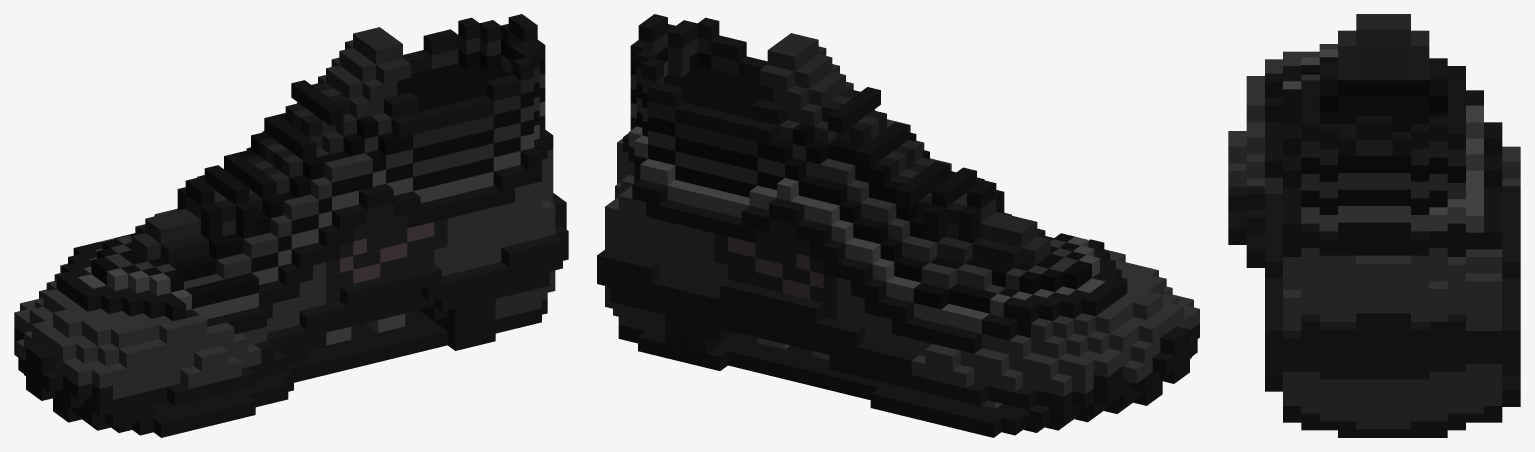
The model's file is Charcoal.fbx.
3 views of the same model, side by side, from view 1: azimuth 30°, elevation 25°; view 2: azimuth 150°, elevation 25°; view 3: azimuth 270°, elevation 25° (orthographic). The views are drawn at different scales.
Visible parts, largest first — view 1: Untitled; view 2: Untitled; view 3: Untitled.
Boxes of the visible parts, box(x1,y1,x2,y2) form: Untitled: box(14, 14, 568, 437); Untitled: box(597, 14, 1199, 437); Untitled: box(1228, 14, 1520, 437).
Bounding box in the file's own units: 390 × 200 × 160.
